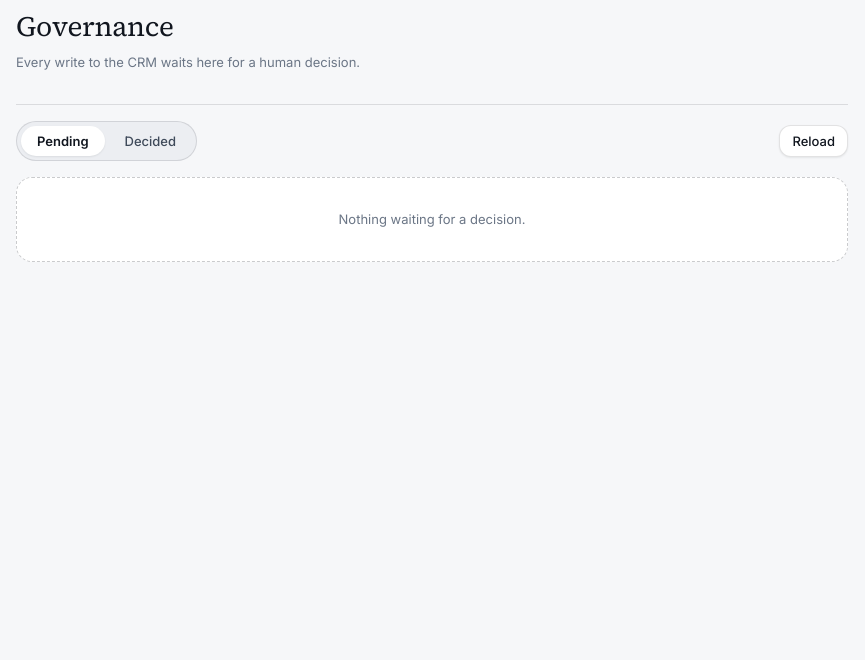
Test: ApprovalQueue › a forged receipt is called a forgery, not an error
Click the tab "Decided" at (150, 141), box [108,126,192,156]
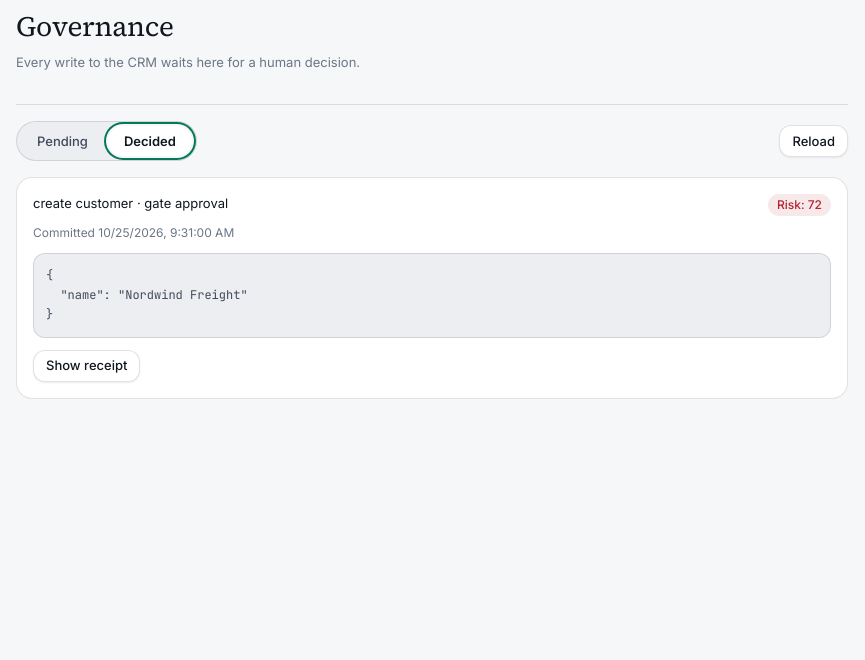
Click the button "Show receipt" at (87, 366), box [33,350,140,382]
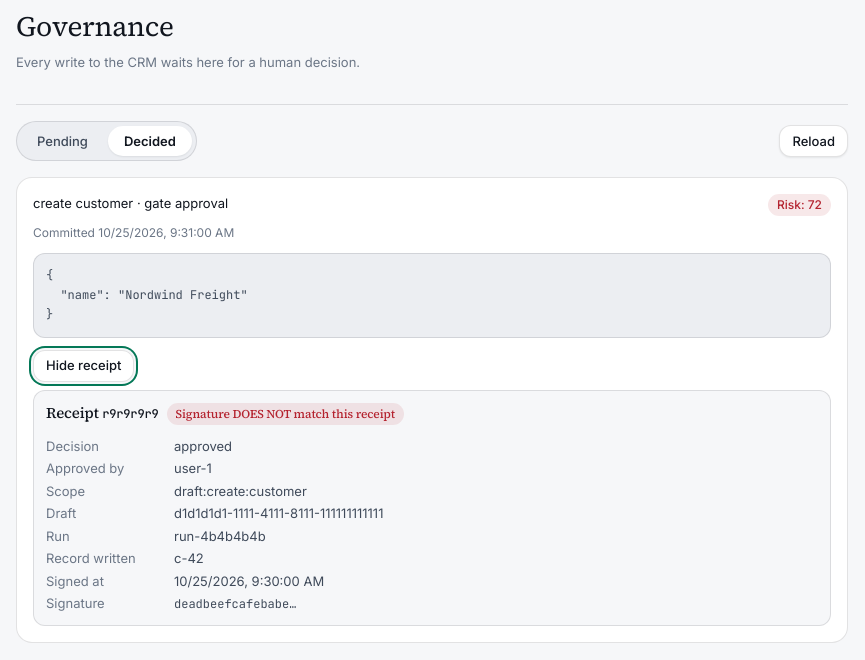
Expected: the text "Signature DOES NOT match this receipt" is shown, [167,402,404,424]
